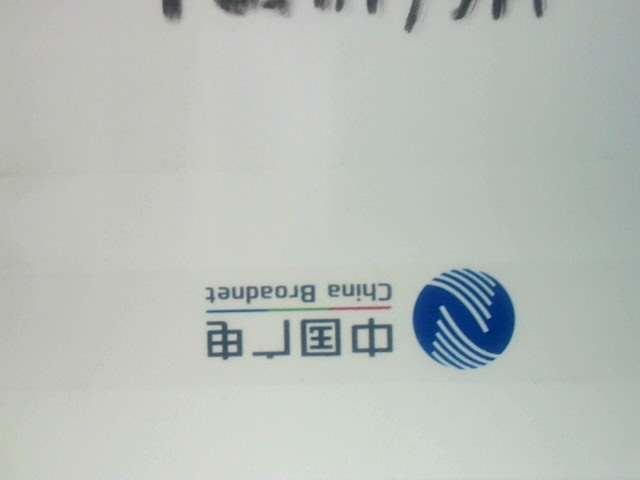AW_ChinaBroadNet: (165, 243, 529, 379)
